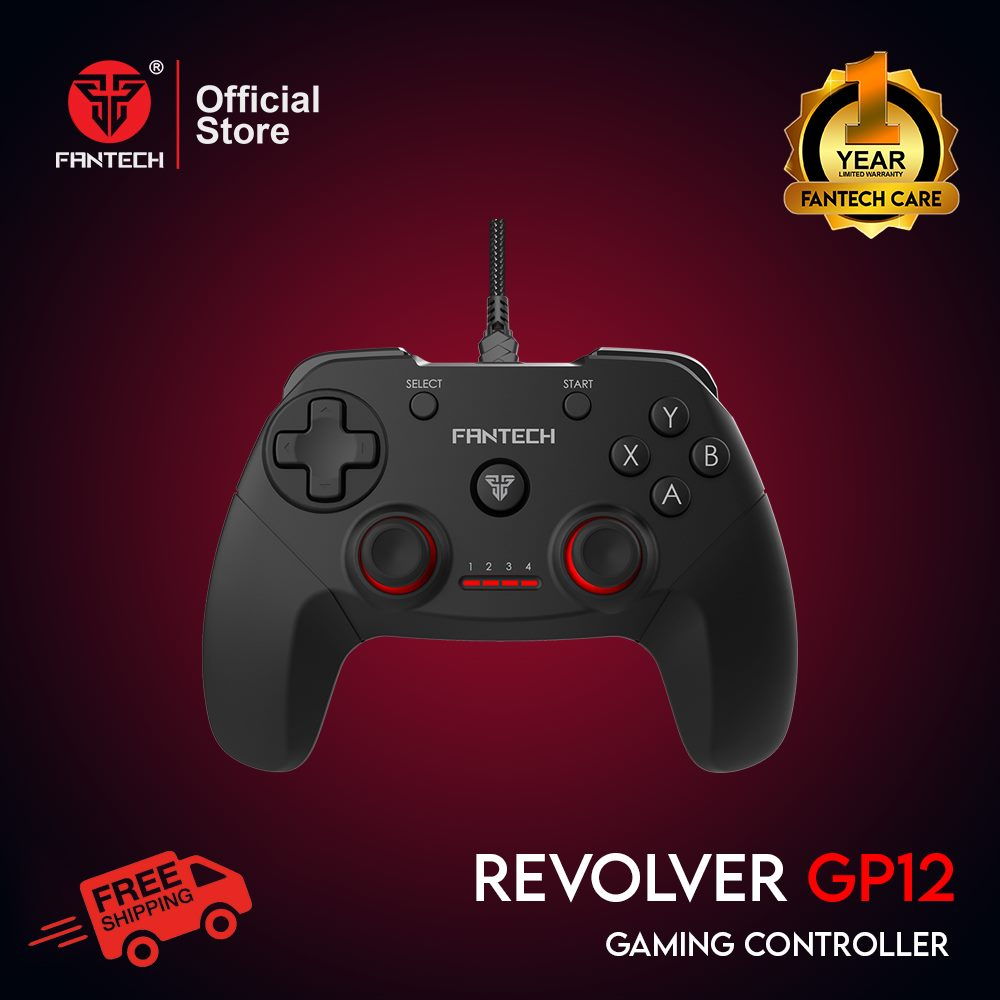controller: (200, 348, 800, 776)
